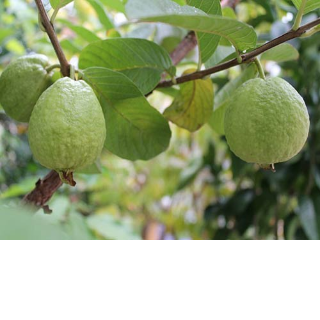oi: (223, 73, 309, 167), (27, 74, 109, 172)
